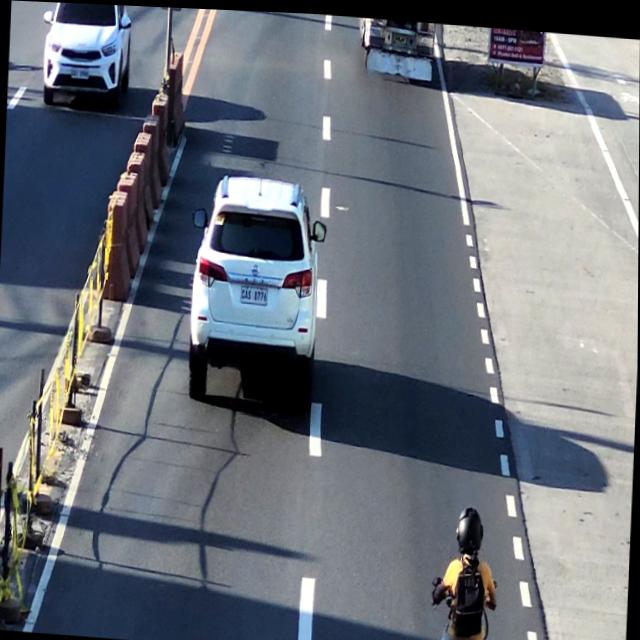Car: (187, 168, 324, 413)
Jeep: (359, 14, 442, 89)
License-Plate: (241, 282, 266, 303)
Motorcycle: (434, 495, 501, 640)
